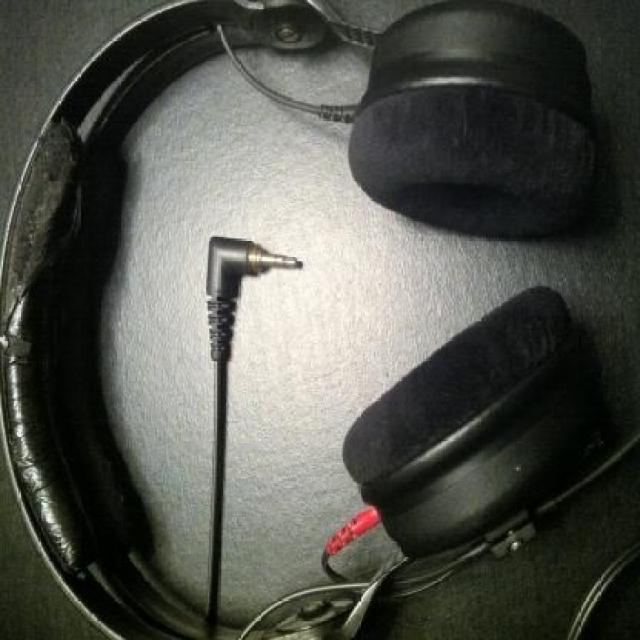earphone: (4, 3, 576, 640)
